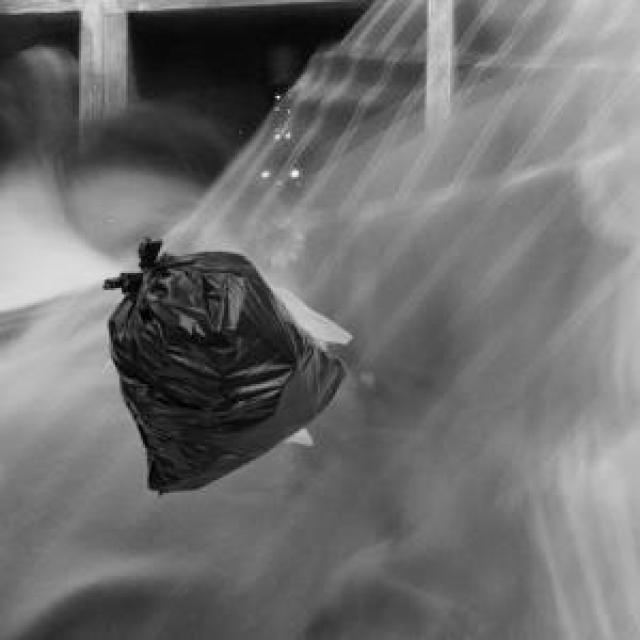miscellaneous trash: (100, 235, 341, 491)
